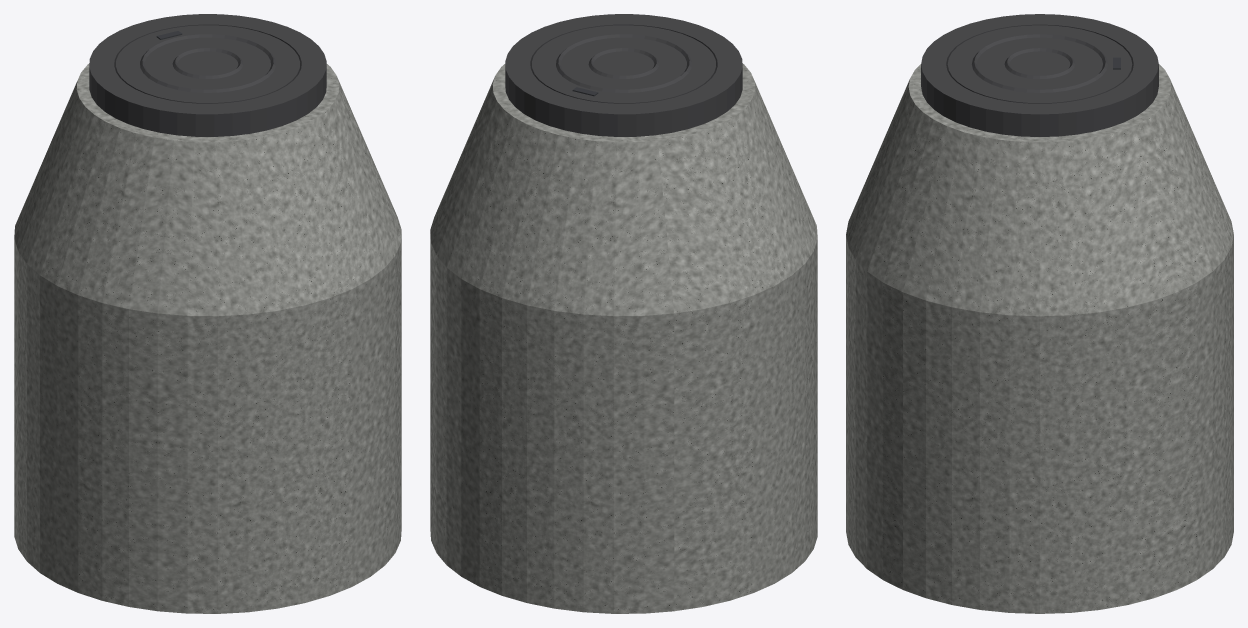
3 renders of one model, left to right at view 1: azimuth 30°, elevation 25°; view 2: azimuth 150°, elevation 25°; view 3: azimuth 270°, elevation 25°, orthographic.
Parts seen in each view (by area): view 1: coverLevelOffset=0;coverMaterial=cast_iron;coverShape=round; (×2); view 2: coverLevelOffset=0;coverMaterial=cast_iron;coverShape=round; (×2); view 3: coverLevelOffset=0;coverMaterial=cast_iron;coverShape=round; (×2).
Boxes of the visible parts, x1,y1,x2,y2 form: coverLevelOffset=0;coverMaterial=cast_iron;coverShape=round; (×2): (14, 14, 401, 613); coverLevelOffset=0;coverMaterial=cast_iron;coverShape=round; (×2): (430, 14, 817, 613); coverLevelOffset=0;coverMaterial=cast_iron;coverShape=round; (×2): (846, 14, 1233, 613).
Size of the model in its own units: 1.24 by 1.24 by 1.66.
4 materials, 1 textured.
